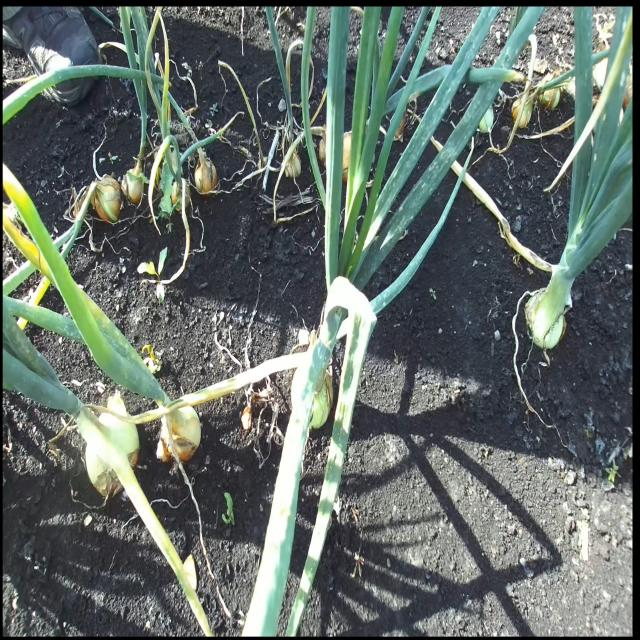onion: (76, 405, 140, 501), (157, 402, 201, 464), (92, 173, 122, 224), (120, 157, 148, 206), (194, 149, 218, 195)
